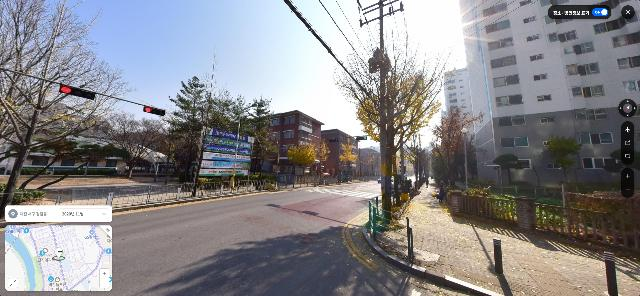ginkgo: (333, 17, 454, 219), (287, 145, 317, 182), (312, 135, 331, 185), (339, 139, 358, 182)
other: (0, 0, 128, 220), (163, 48, 244, 193), (86, 112, 171, 180), (29, 143, 127, 193), (427, 103, 480, 189), (241, 97, 275, 181), (541, 135, 584, 188), (264, 140, 292, 186), (491, 153, 526, 187)
